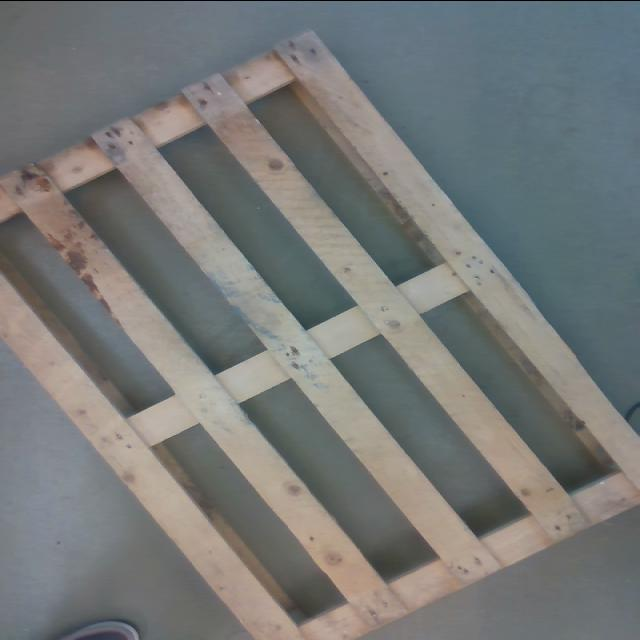pallet: (0, 26, 640, 639)
